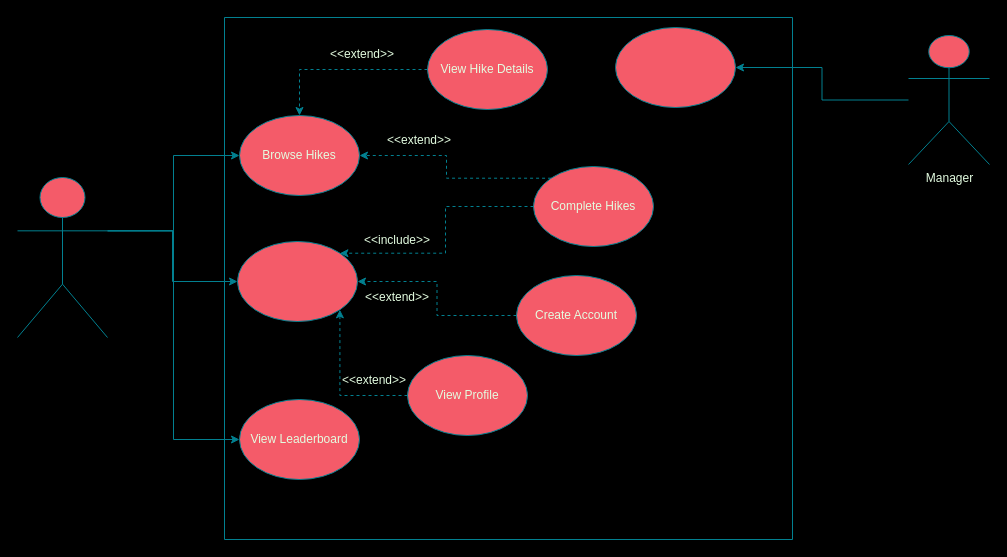
Image size: 1007x557. Some labels were removed from this diagram. The centre of each missing label's shape, as x and y in pixels:
"Insert Hike" belongs at (675,67).
"Log In" belongs at (297,281).
"User" belongs at (62,257).
